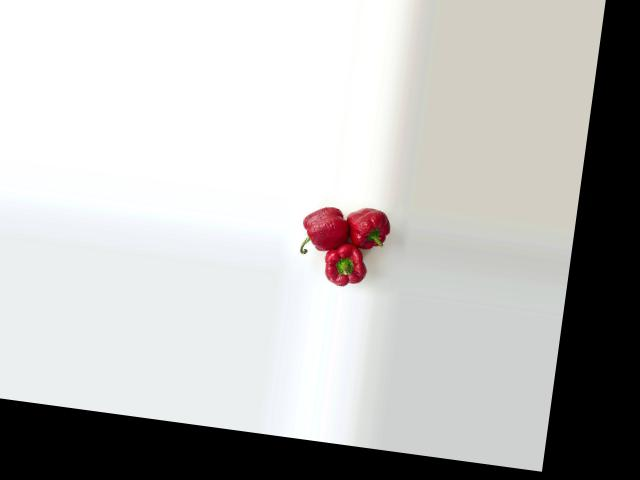bell_pepper: (288, 200, 348, 261)
